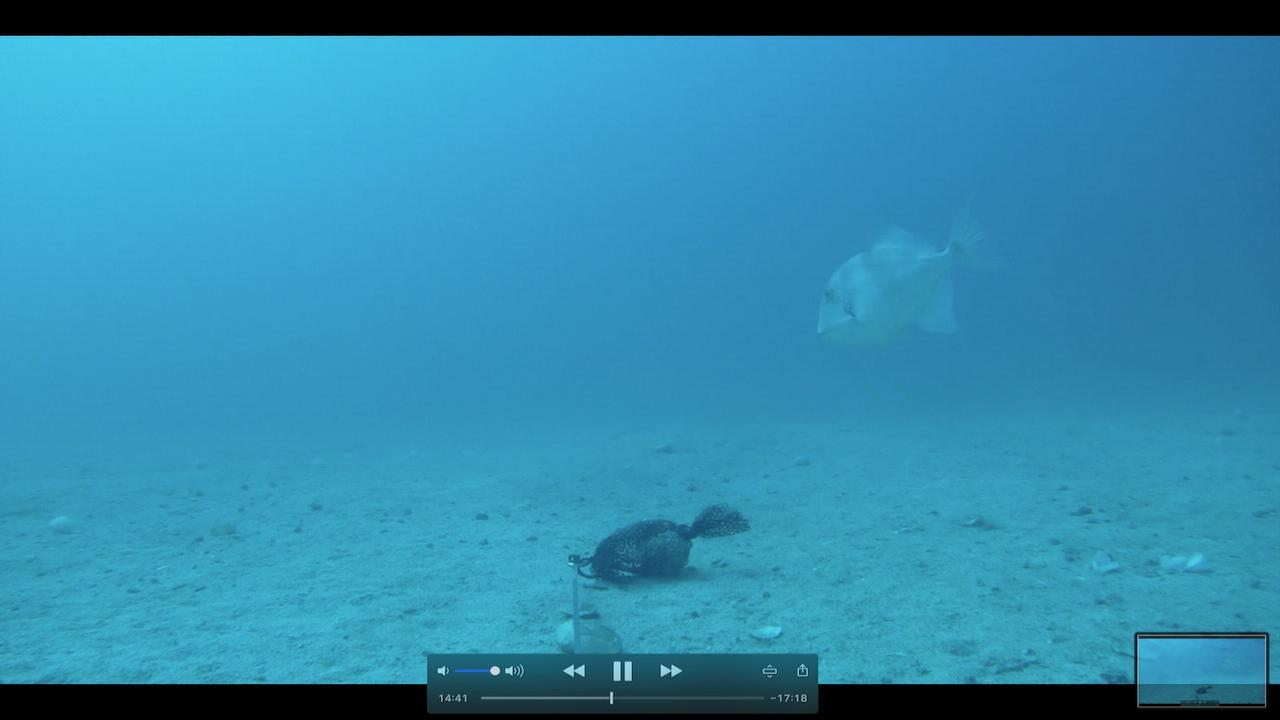balistes: (809, 187, 1032, 349)
